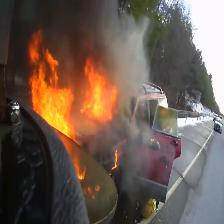fire: (20, 11, 141, 191)
smoke: (23, 0, 167, 102)
